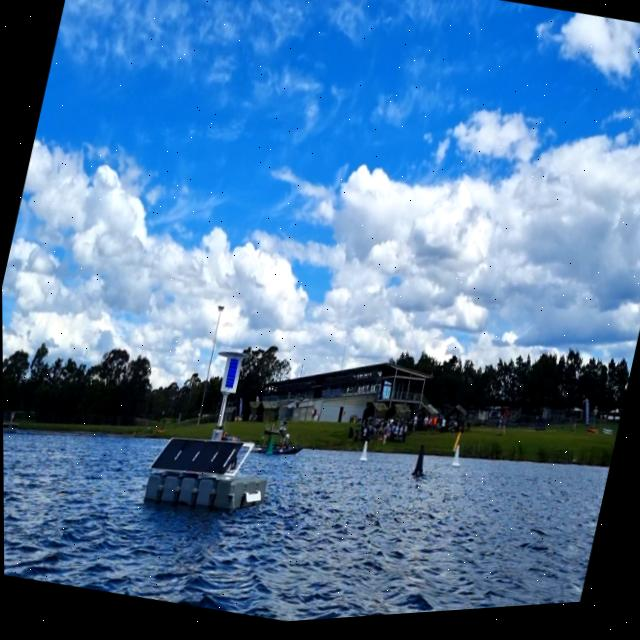led: (221, 358, 241, 395)
